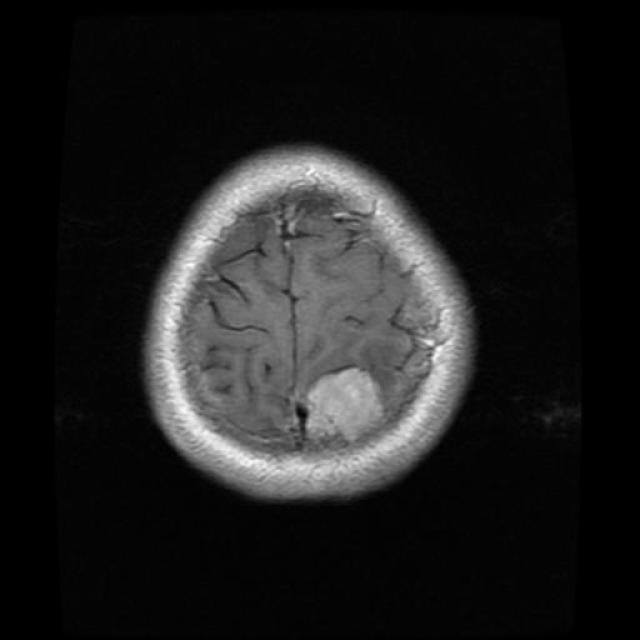meningioma: (306, 366, 388, 448)
